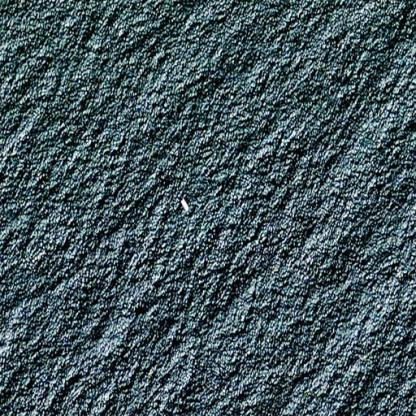ship: (0, 32, 6, 46)
